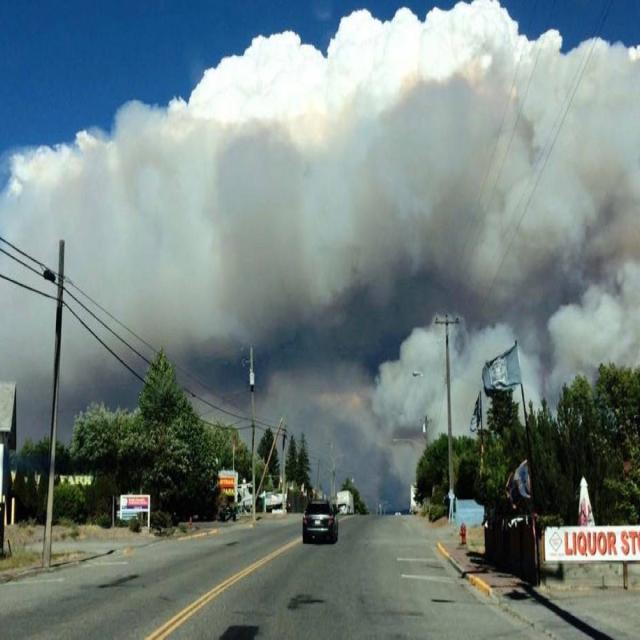Smoke: (28, 79, 626, 455)
